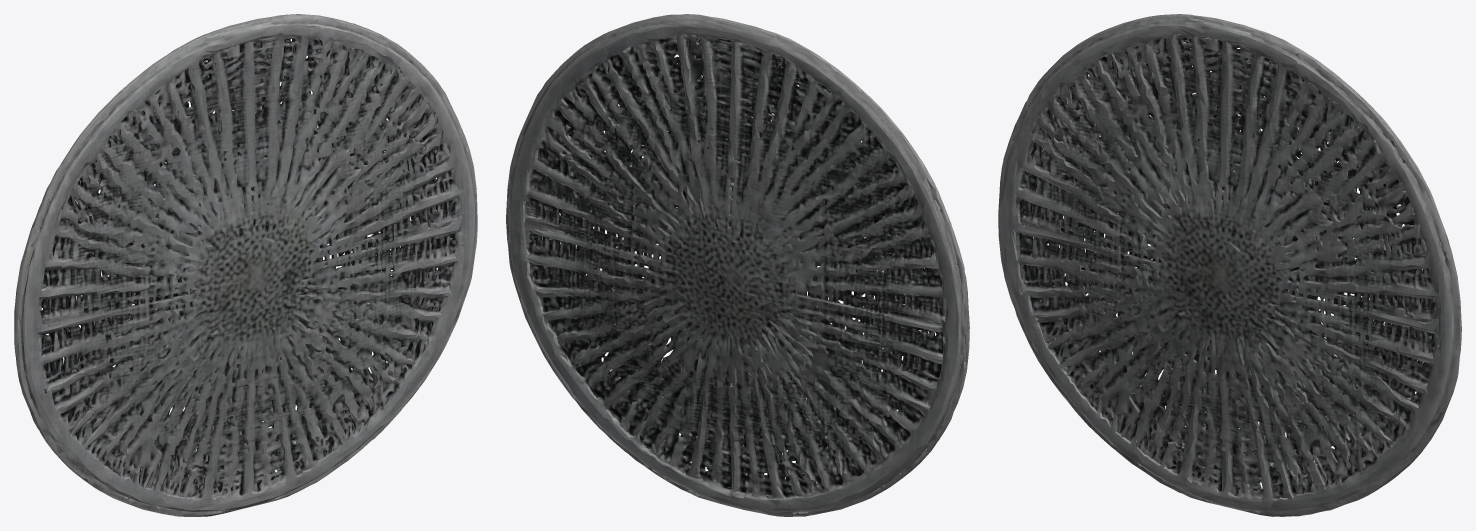
File: r7-diatom.glb
3 views of the same model, side by side, from view 1: azimuth 30°, elevation 25°; view 2: azimuth 150°, elevation 25°; view 3: azimuth 330°, elevation 25° (orthographic).
Parts seen in each view (by area): view 1: geometry_0; view 2: geometry_0; view 3: geometry_0.
Boxes of the visible parts, left/top/right/bottom form: geometry_0: left=14, top=14, right=477, bottom=516; geometry_0: left=506, top=14, right=969, bottom=516; geometry_0: left=998, top=14, right=1461, bottom=516.
Size of the model in its own units: 0.0002 by 0.0002 by 1.51e-05.
Materials: 1 (1 with a texture image).
